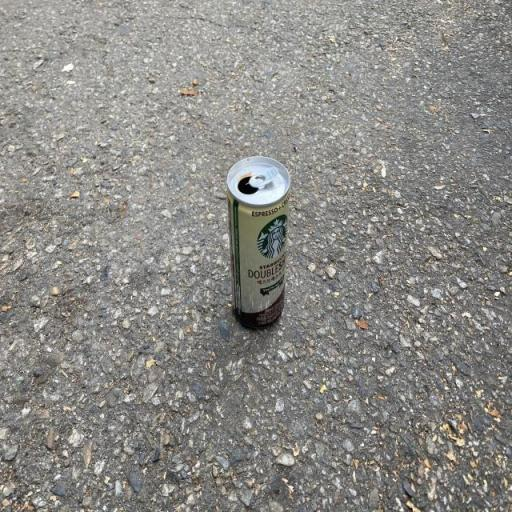metal: (198, 141, 307, 353)
